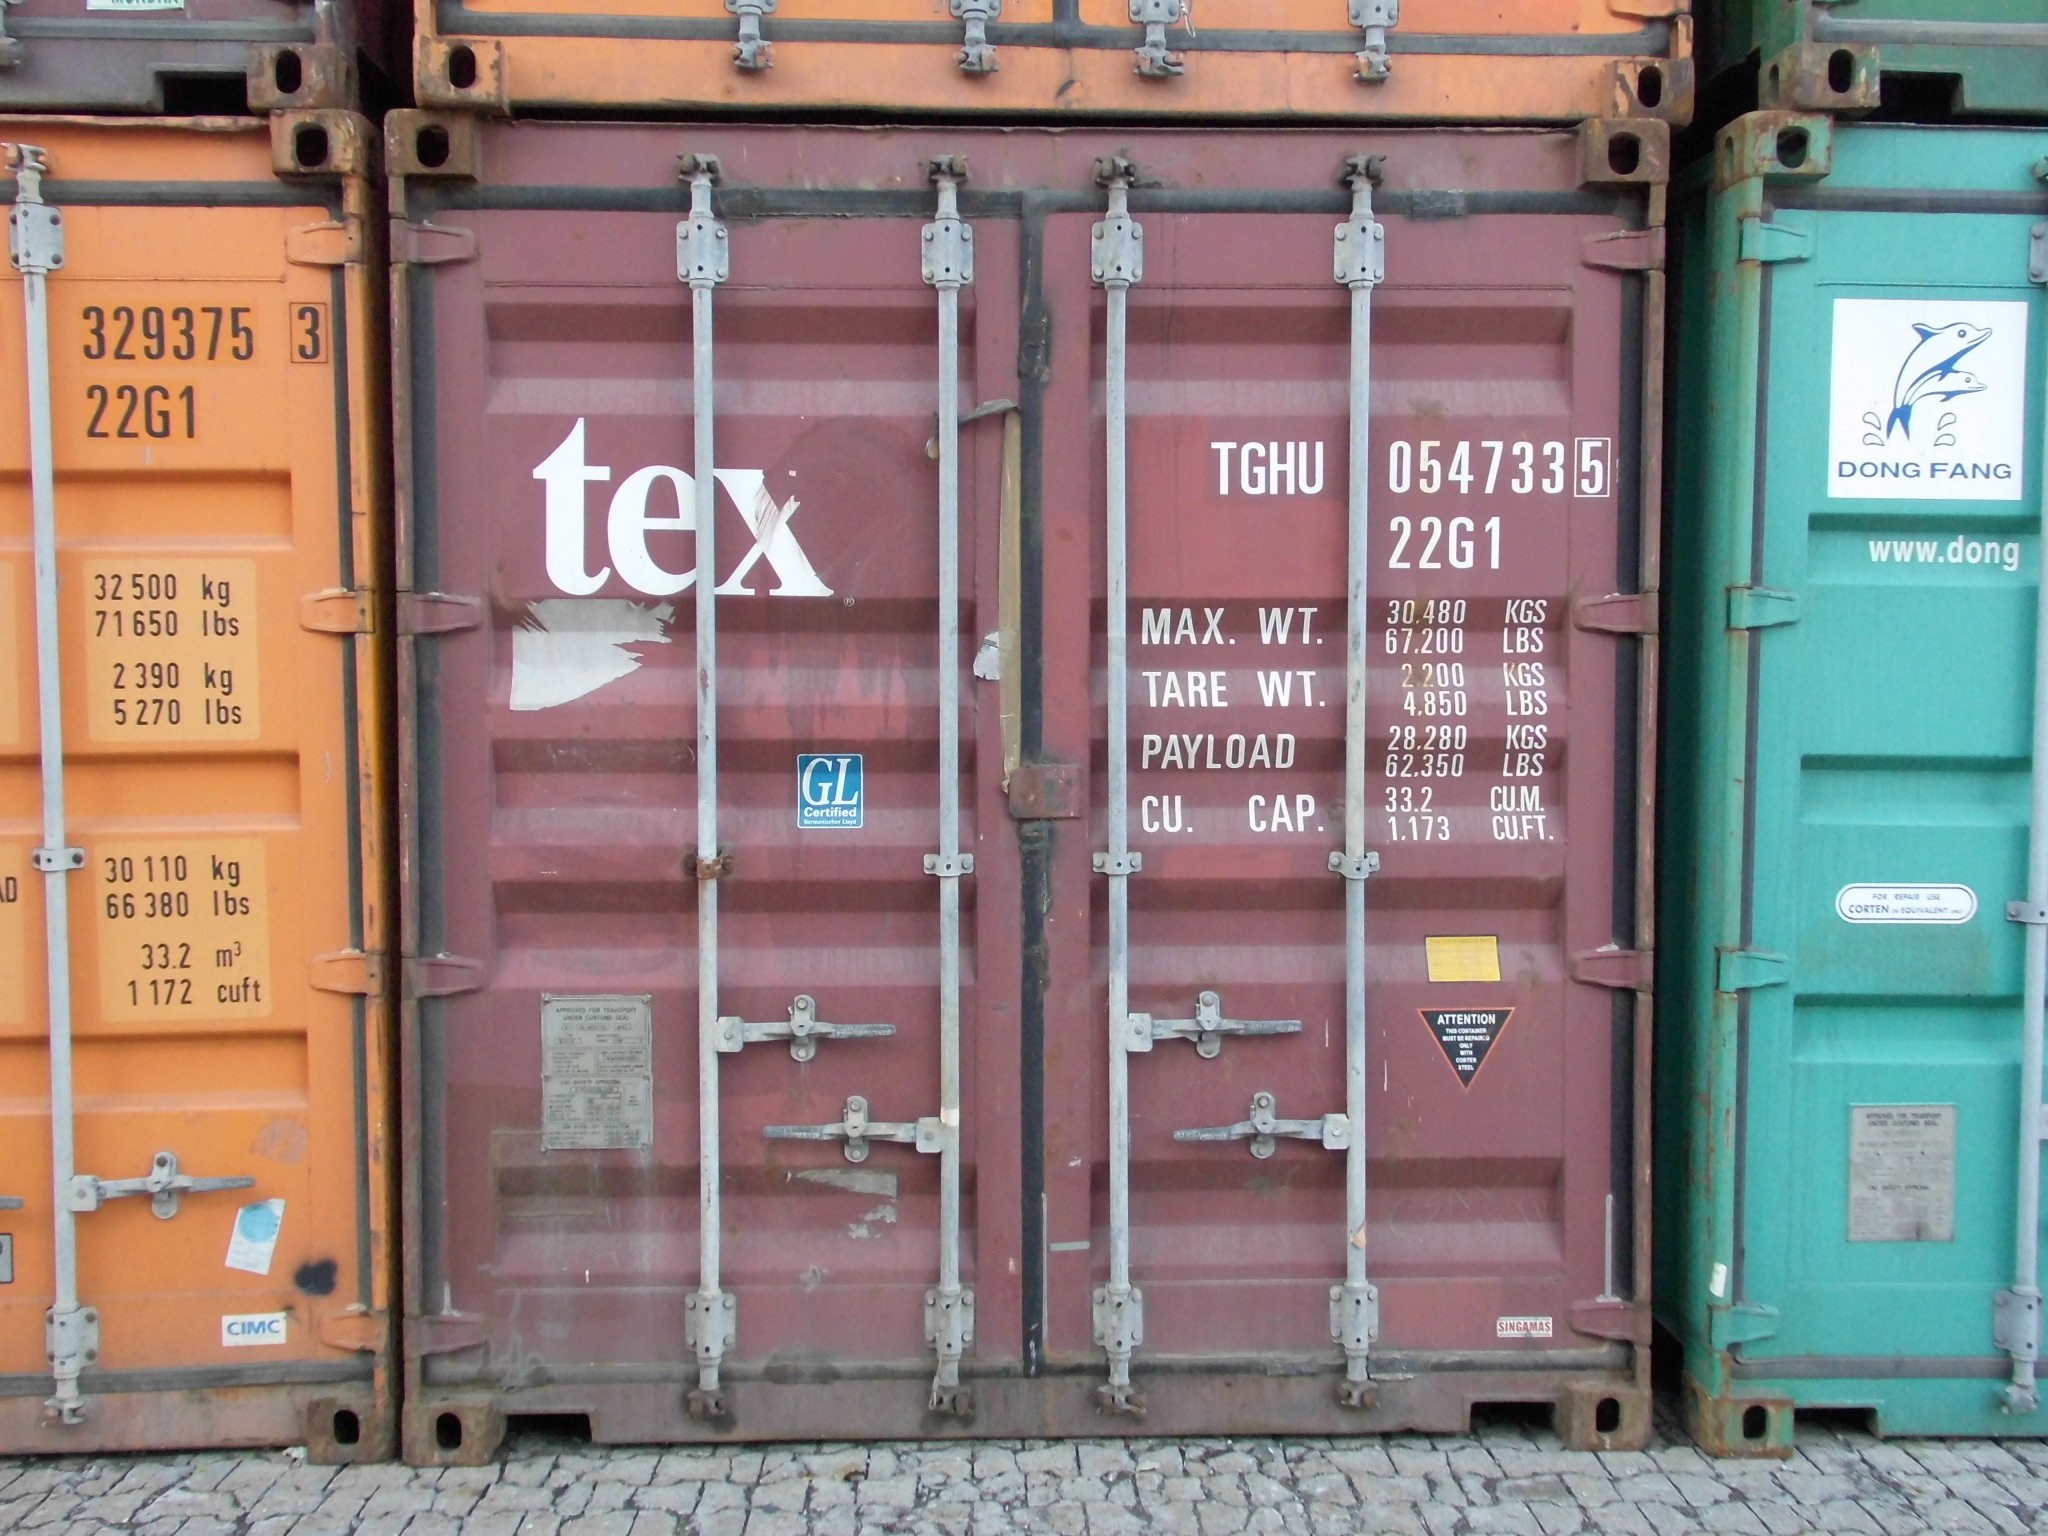container_door: (384, 102, 1661, 1454)
